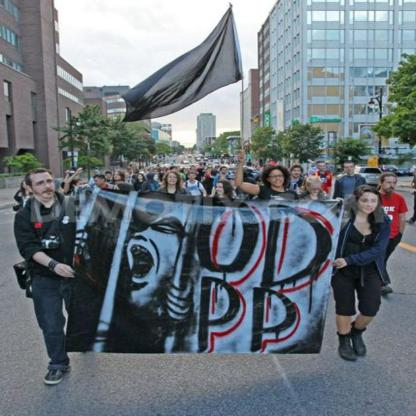face: (34, 176, 54, 199), (358, 194, 378, 214), (383, 177, 396, 193), (271, 173, 285, 187), (311, 185, 321, 196), (168, 175, 178, 185), (217, 185, 226, 196), (346, 165, 355, 174), (293, 170, 301, 179), (114, 173, 122, 181), (95, 178, 102, 187), (319, 164, 326, 172), (77, 182, 84, 190), (23, 183, 29, 190), (154, 176, 159, 182), (128, 169, 133, 175), (223, 169, 228, 174), (190, 175, 195, 180), (155, 171, 160, 176), (139, 176, 143, 181), (107, 175, 111, 179), (172, 169, 176, 173), (258, 167, 261, 171), (193, 168, 196, 172), (95, 174, 98, 178), (197, 166, 200, 169), (168, 171, 171, 174), (151, 169, 154, 172)
